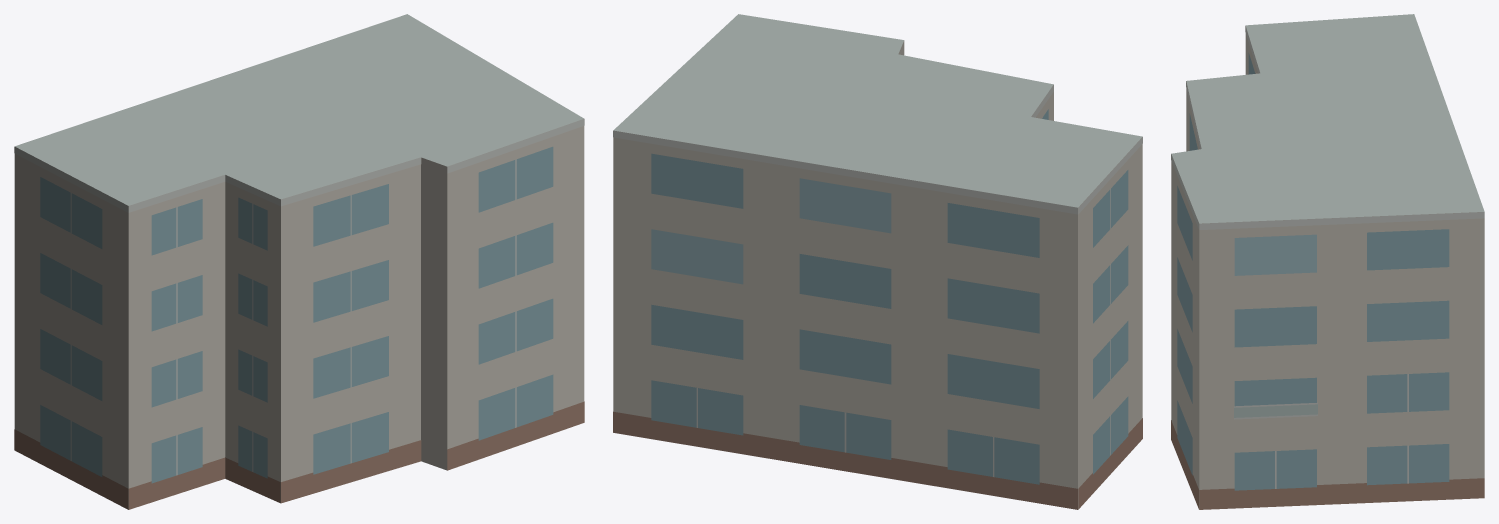
File: survey-upis-32851395.glb
3 renders of one model, left to right at view 1: azimuth 30°, elevation 25°; view 2: azimuth 150°, elevation 25°; view 3: azimuth 270°, elevation 25°, orthographic. The views are drawn at different scales.
Visible parts, largest first — view 1: survey-upis-32851395.tmp; view 2: survey-upis-32851395.tmp; view 3: survey-upis-32851395.tmp.
Boxes of the visible parts, x1,y1,x2,y2 form: survey-upis-32851395.tmp: [14, 14, 584, 509]; survey-upis-32851395.tmp: [613, 14, 1142, 509]; survey-upis-32851395.tmp: [1171, 14, 1484, 509].
Bounding box in the file's own units: 16.65 × 10.6 × 10.53.
